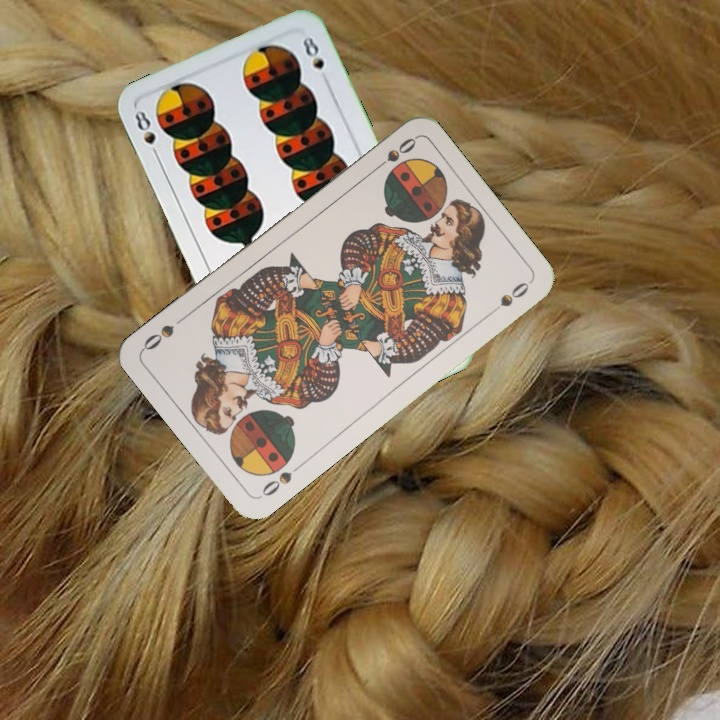S8: (130, 106, 163, 163)
SO: (368, 133, 419, 175), (256, 459, 306, 500)
